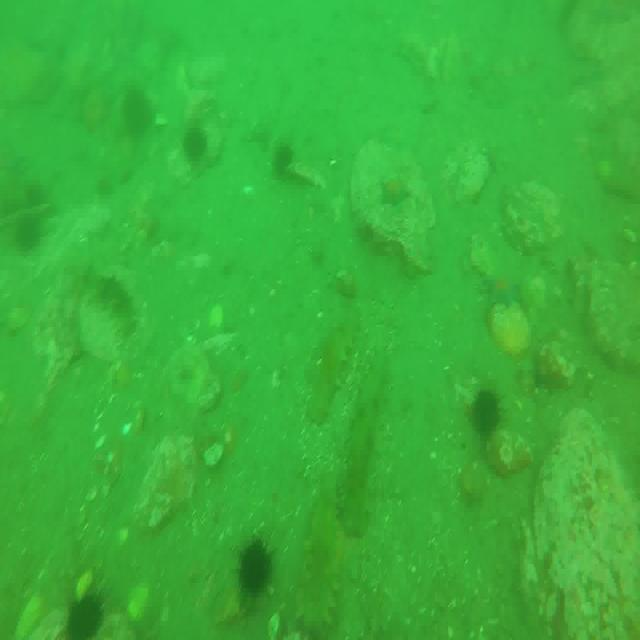echinus: (236, 536, 272, 600), (68, 588, 107, 640), (473, 384, 502, 442), (16, 212, 41, 257), (182, 122, 209, 162), (122, 90, 148, 130), (272, 142, 294, 176)
holothurian: (341, 347, 389, 535), (298, 472, 346, 636), (310, 310, 361, 418), (85, 272, 139, 330)
starfish: (484, 270, 524, 311), (381, 172, 413, 206)
